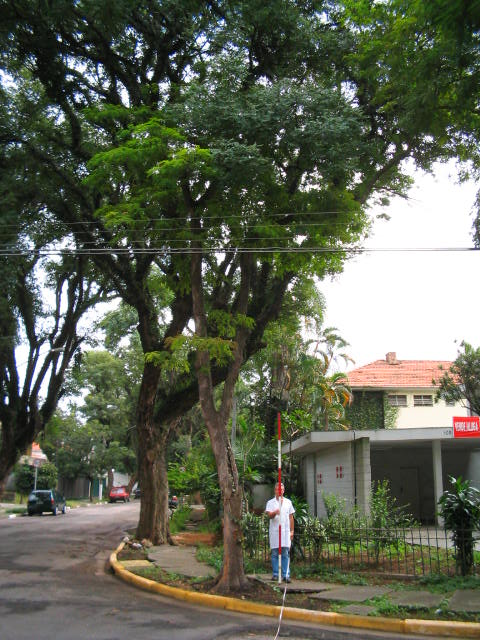stem: (198, 412, 258, 591), (125, 418, 180, 546)
stick: (262, 412, 294, 582)
